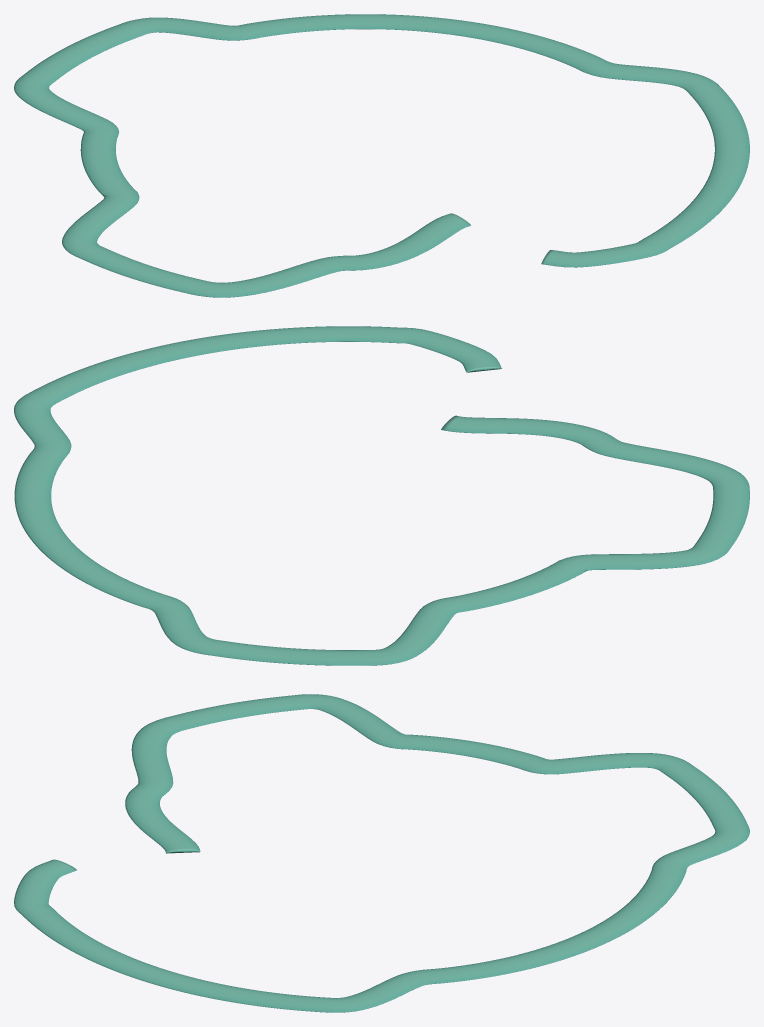
File: slime_lane.fbx
3 views of the same model, one above another, from view 1: azimuth 30°, elevation 25°; view 2: azimuth 150°, elevation 25°; view 3: azimuth 270°, elevation 25° (orthographic). The views are drawn at different scales.
Visible parts, largest first — view 1: slime_lane; view 2: slime_lane; view 3: slime_lane.
Part boxes in pixels (x1,y1,x2,y2): slime_lane: [14, 14, 749, 297]; slime_lane: [14, 326, 749, 665]; slime_lane: [14, 694, 749, 1012].
Bounding box in the file's own units: 141 × 0.43 × 138.
